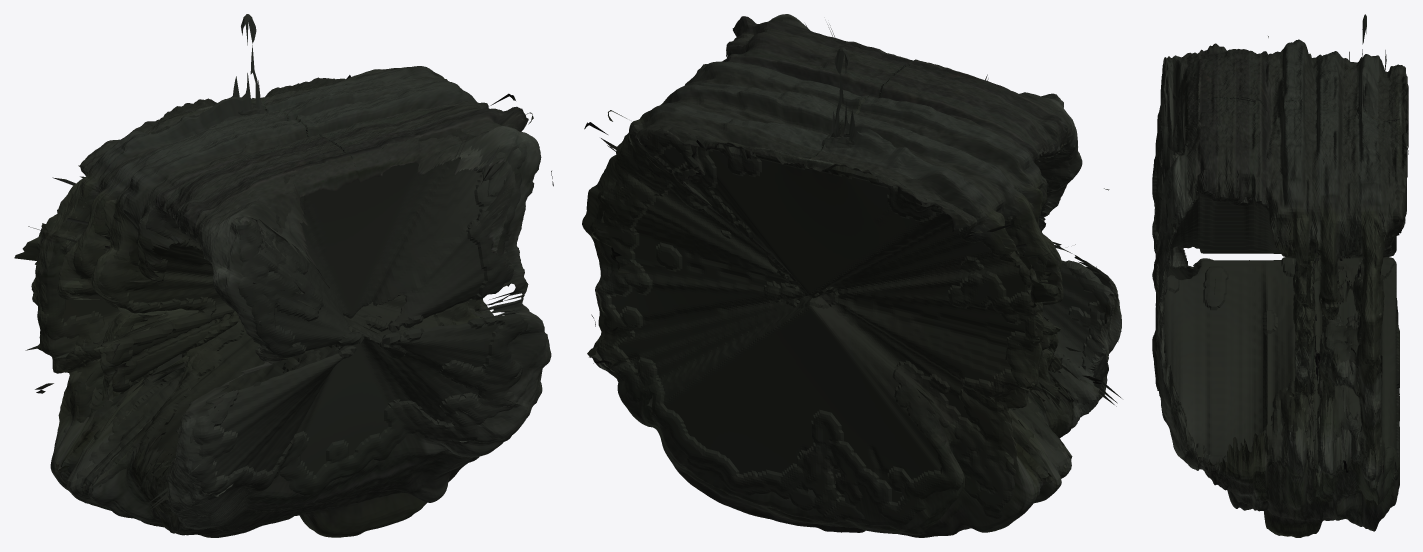
File: volume2_mesh.glb
3 views of the same model, side by side, from view 1: azimuth 30°, elevation 25°; view 2: azimuth 150°, elevation 25°; view 3: azimuth 270°, elevation 25° (orthographic). The views are drawn at different scales.
Parts seen in each view (by area): view 1: fill, ipn; view 2: fill, ipn; view 3: ipn, fill.
Part boxes in pixels (x1=…): fill: x1=38, y1=68, x2=540, y2=510; ipn: x1=14, y1=14, x2=553, y2=537; fill: x1=590, y1=29, x2=1113, y2=524; ipn: x1=582, y1=14, x2=1121, y2=537; ipn: x1=1154, y1=14, x2=1408, y2=537; fill: x1=1152, y1=58, x2=1406, y2=494.
Bounding box in the file's own units: 1.95 × 1.81 × 0.8863.
Materials: 2 (1 with a texture image).
